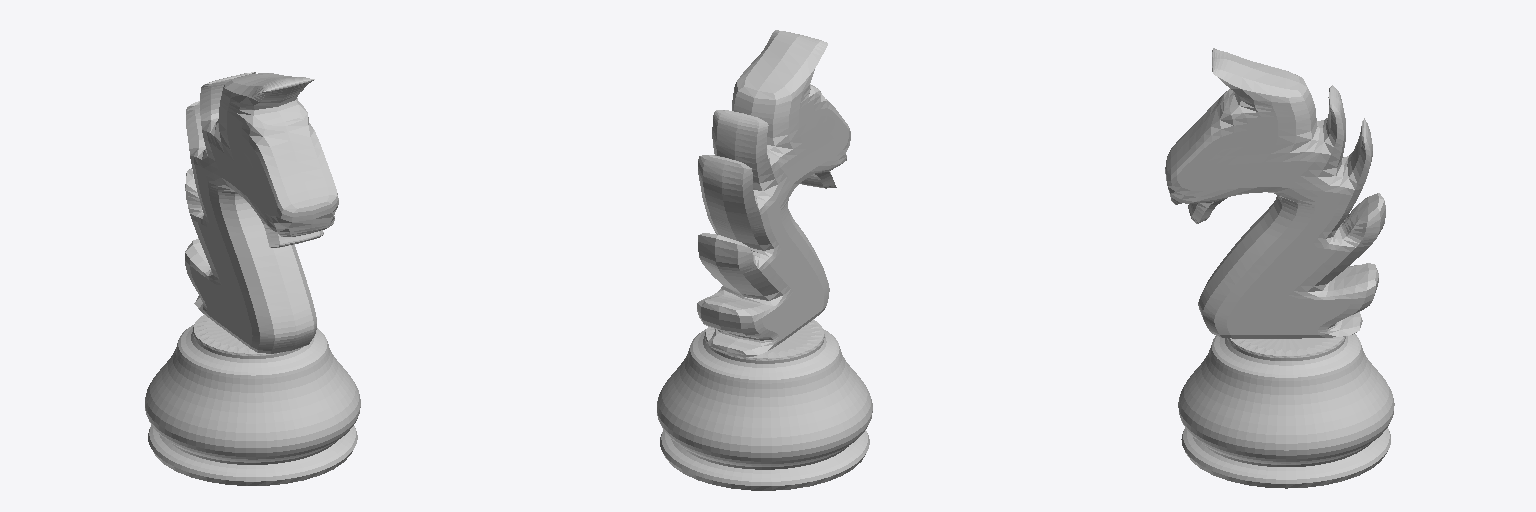
Rendered from knight.obj.
3 views of the same model, side by side, from view 1: azimuth 30°, elevation 25°; view 2: azimuth 150°, elevation 25°; view 3: azimuth 270°, elevation 25° (orthographic).
Visible parts, largest first — view 1: knight_black_2_Cylinder.017; view 2: knight_black_2_Cylinder.017; view 3: knight_black_2_Cylinder.017.
Boxes of the visible parts, <box> form: knight_black_2_Cylinder.017: <box>145,72,360,485</box>; knight_black_2_Cylinder.017: <box>657,30,872,490</box>; knight_black_2_Cylinder.017: <box>1165,48,1394,488</box>.
Size of the model in its own units: 1.2 by 2.41 by 1.27.